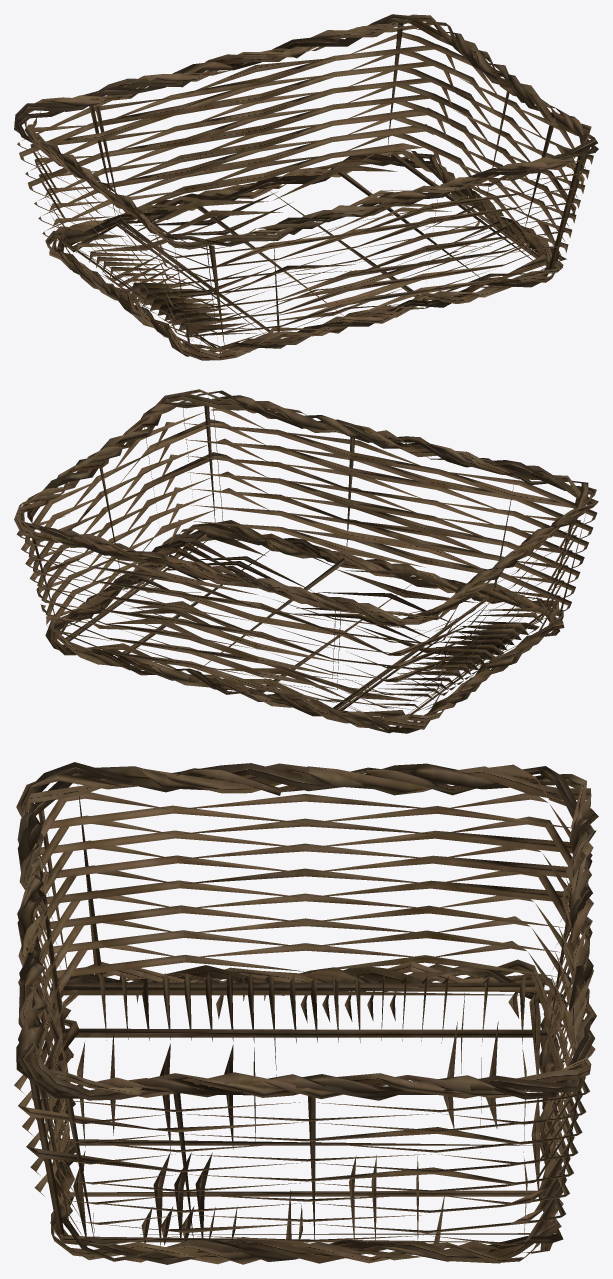
The model's file is wicker_basket_01.glb.
The picture shows the model from 3 angles, top to bottom: view 1: azimuth 30°, elevation 25°; view 2: azimuth 150°, elevation 25°; view 3: azimuth 270°, elevation 25°; orthographic projection. The views are drawn at different scales.
Visible parts, largest first — view 1: wicker_basket_01; view 2: wicker_basket_01; view 3: wicker_basket_01.
Part boxes in pixels (x1,y1,x2,y2): wicker_basket_01: [14, 14, 598, 360]; wicker_basket_01: [14, 389, 598, 733]; wicker_basket_01: [14, 762, 598, 1264].
Bounding box in the file's own units: 0.383 × 0.1174 × 0.2939.
Materials: 1 (1 with a texture image).
